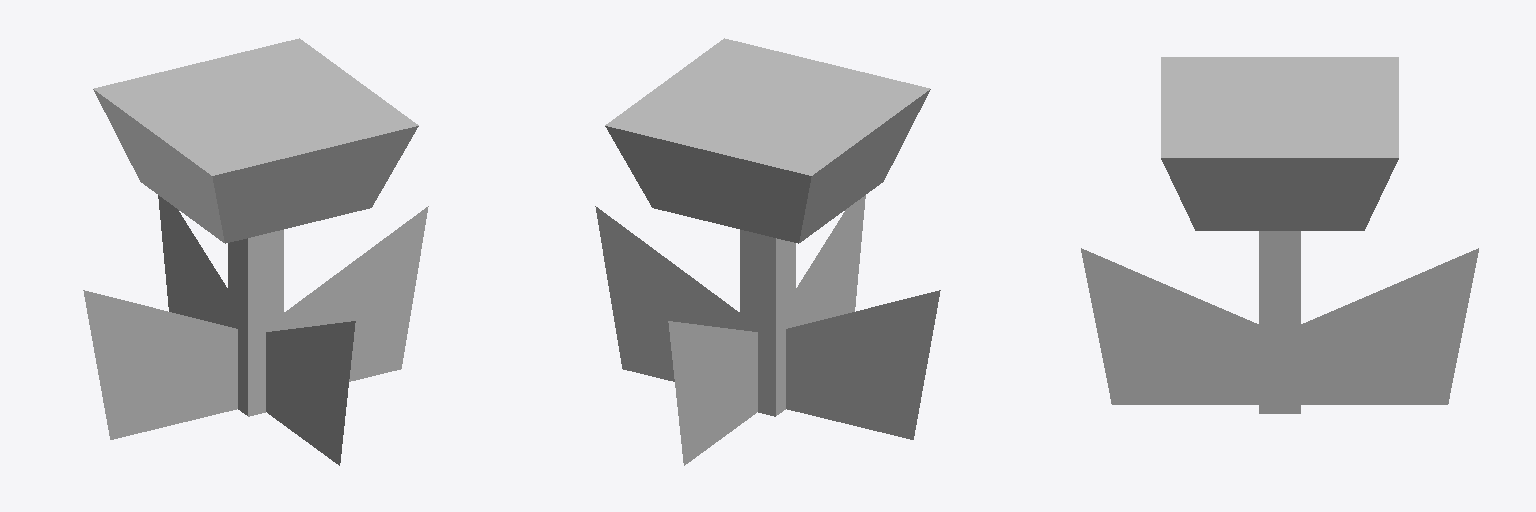
The model's file is Flower_Yellow_02.obj.
3 views of the same model, side by side, from view 1: azimuth 30°, elevation 25°; view 2: azimuth 150°, elevation 25°; view 3: azimuth 270°, elevation 25° (orthographic).
Visible parts, largest first — view 1: Mesh3_Flower_Yellow_Model.001, Mesh4_Flower_Yellow_Model.001, Mesh1_Flower_Yellow_Model.001, Mesh2_Flower_Yellow_Model.001, Mesh5_Flower_Yellow_Model.001; view 2: Mesh3_Flower_Yellow_Model.001, Mesh4_Flower_Yellow_Model.001, Mesh1_Flower_Yellow_Model.001, Mesh5_Flower_Yellow_Model.001, Mesh2_Flower_Yellow_Model.001; view 3: Mesh3_Flower_Yellow_Model.001, Mesh2_Flower_Yellow_Model.001, Mesh5_Flower_Yellow_Model.001.
Boxes of the visible parts, x1,y1,x2,y2 form: Mesh3_Flower_Yellow_Model.001: [93, 38, 418, 416]; Mesh4_Flower_Yellow_Model.001: [83, 290, 237, 439]; Mesh1_Flower_Yellow_Model.001: [284, 206, 428, 381]; Mesh2_Flower_Yellow_Model.001: [266, 321, 355, 465]; Mesh5_Flower_Yellow_Model.001: [158, 195, 227, 325]; Mesh3_Flower_Yellow_Model.001: [605, 38, 930, 416]; Mesh4_Flower_Yellow_Model.001: [786, 290, 940, 439]; Mesh1_Flower_Yellow_Model.001: [595, 206, 739, 381]; Mesh5_Flower_Yellow_Model.001: [668, 321, 757, 465]; Mesh2_Flower_Yellow_Model.001: [796, 195, 865, 325]; Mesh3_Flower_Yellow_Model.001: [1161, 57, 1398, 413]; Mesh2_Flower_Yellow_Model.001: [1081, 248, 1258, 404]; Mesh5_Flower_Yellow_Model.001: [1301, 248, 1478, 404].
Bounding box in the file's own units: 0.4859 × 0.4 × 0.4859.